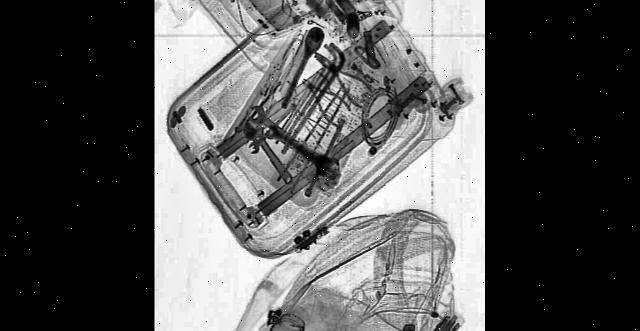Pliers: (312, 34, 373, 119), (300, 63, 353, 140)
Wrench: (249, 99, 340, 190), (243, 111, 296, 196)
